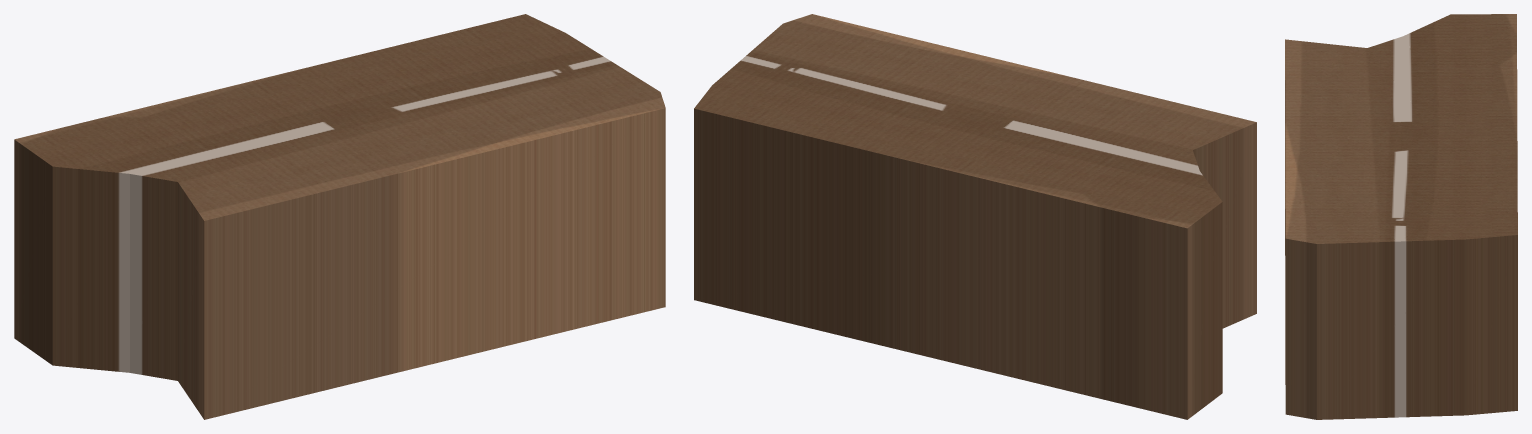
The model's file is road_2.FBX.
The picture shows the model from 3 angles, left to right: view 1: azimuth 30°, elevation 25°; view 2: azimuth 150°, elevation 25°; view 3: azimuth 270°, elevation 25°; orthographic projection. The views are drawn at different scales.
Visible parts, largest first — view 1: road_2; view 2: road_2; view 3: road_2.
Part boxes in pixels (x1,y1,x2,y2): road_2: (14,14,665,419); road_2: (694,14,1256,419); road_2: (1285,14,1517,419).
Bounding box in the file's own units: 1122 × 400 × 480.
Materials: 1 (1 with a texture image).
